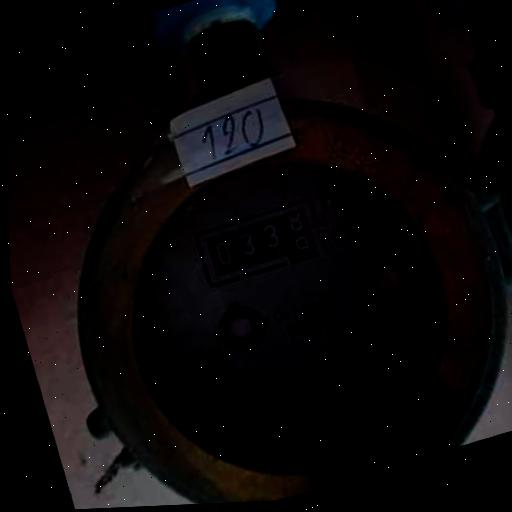0: (205, 231, 242, 277)
3: (231, 223, 267, 270), (256, 217, 290, 262)
8: (277, 204, 318, 264)
border_water_meter_number: (191, 196, 331, 290)
